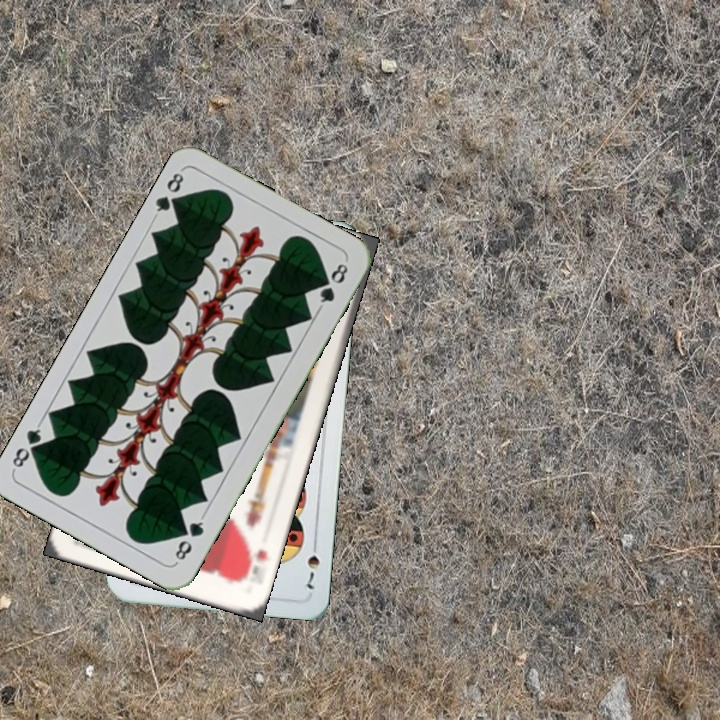G8: (149, 166, 187, 220), (171, 512, 207, 566)
HK: (236, 543, 271, 586)
S7: (302, 535, 322, 592)
